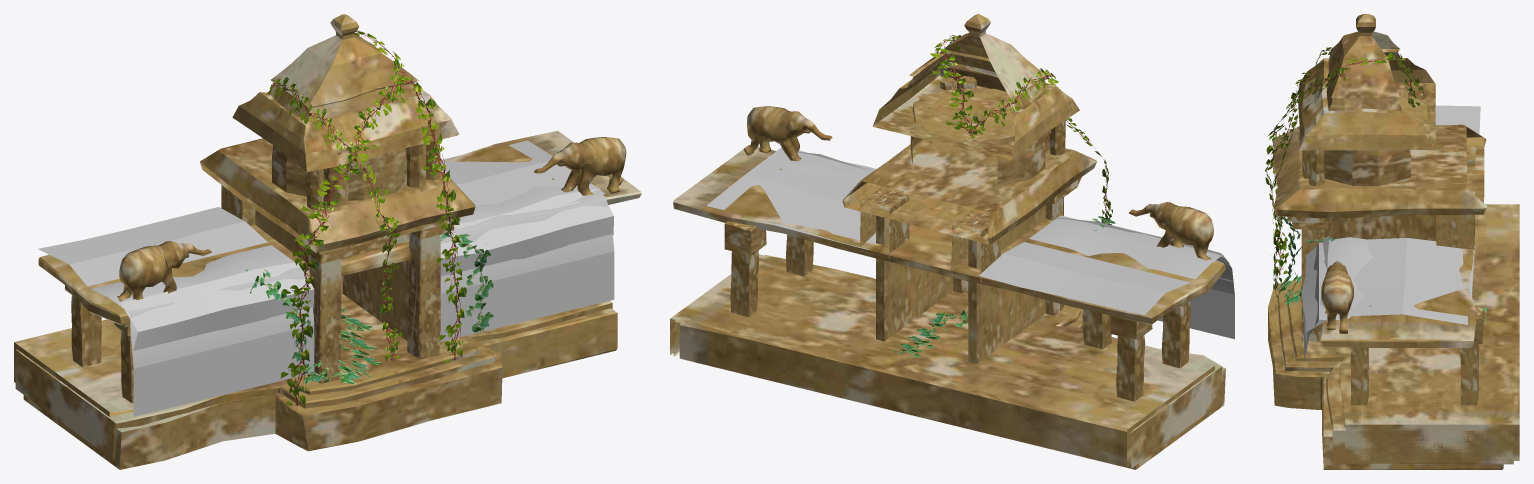
Rendered from temple 4.fbx.
3 renders of one model, left to right at view 1: azimuth 30°, elevation 25°; view 2: azimuth 150°, elevation 25°; view 3: azimuth 270°, elevation 25°, orthographic. The views are drawn at different scales.
Parts seen in each view (by area): view 1: temple_4, vine_43, vine_45, vine_44, vine_47, vine_46, vine_48, vine_24, vine_23, vine_25, vine_22, vine_21; view 2: temple_4, vine_47, vine_43, vine_48, vine_23, vine_45, vine_25, vine_22; view 3: temple_4, vine_48, vine_45, vine_25, vine_46, vine_24, vine_47, vine_23, vine_22.
Boxes of the visible parts, <box> form: temple_4: <box>14,14,641,469</box>; vine_43: <box>91,245,314,416</box>; vine_45: <box>440,186,614,341</box>; vine_44: <box>120,262,314,350</box>; vine_47: <box>38,207,267,286</box>; vine_46: <box>440,188,614,275</box>; vine_48: <box>440,140,605,210</box>; vine_24: <box>280,58,405,406</box>; vine_23: <box>354,30,466,363</box>; vine_25: <box>267,77,402,361</box>; vine_22: <box>246,269,381,384</box>; vine_21: <box>440,232,493,332</box>; temple_4: <box>670,14,1225,469</box>; vine_47: <box>979,242,1190,315</box>; vine_43: <box>1029,215,1234,339</box>; vine_48: <box>706,147,875,249</box>; vine_23: <box>930,35,976,134</box>; vine_45: <box>789,155,876,182</box>; vine_25: <box>969,68,1058,138</box>; vine_22: <box>892,216,1116,357</box>; temple_4: <box>1268,14,1519,469</box>; vine_48: <box>1319,238,1474,324</box>; vine_45: <box>1304,237,1372,362</box>; vine_25: <box>1265,47,1424,297</box>; vine_46: <box>1301,235,1329,349</box>; vine_24: <box>1266,67,1345,276</box>; vine_47: <box>1435,105,1480,134</box>; vine_23: <box>1271,52,1419,332</box>; vine_22: <box>1277,216,1486,322</box>.
Size of the model in its own units: 47.82 by 32.9 by 22.16.
